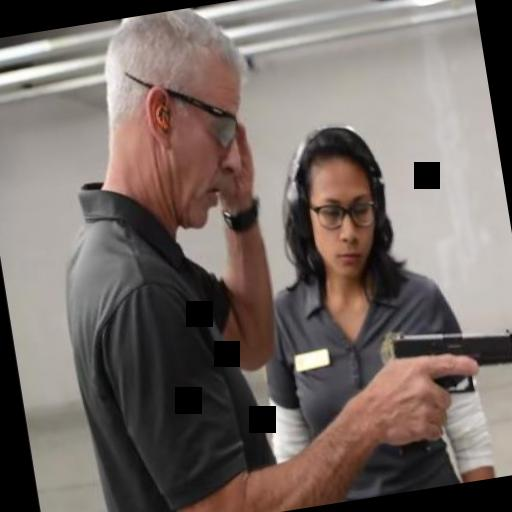Handgun: (375, 309, 512, 455)
